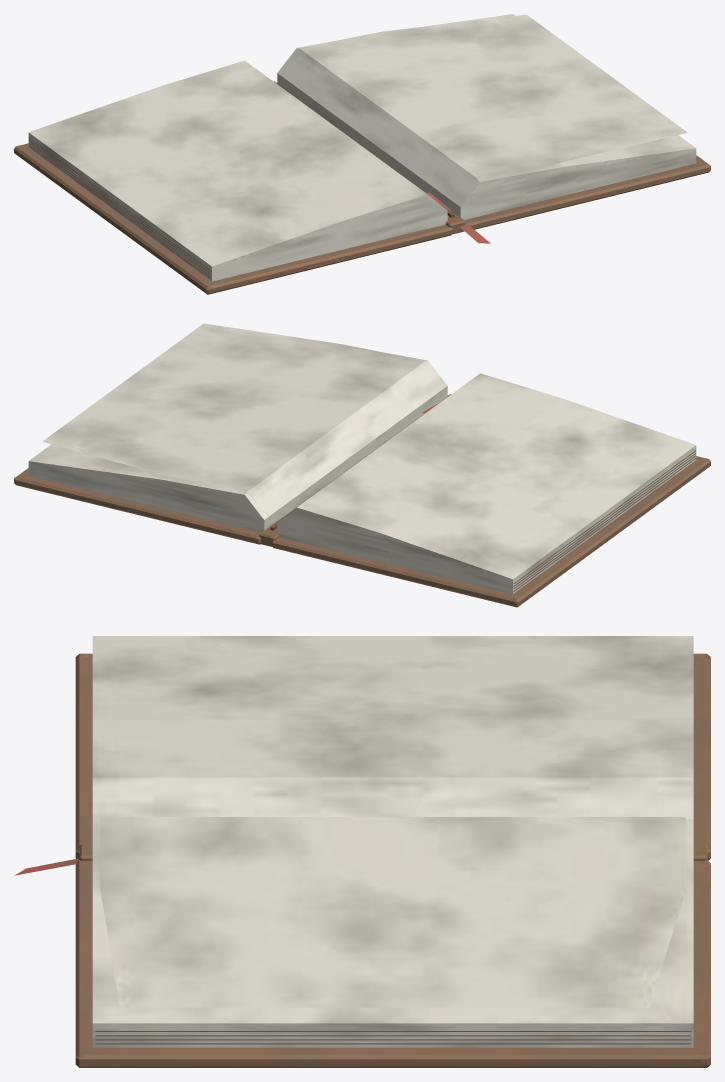
Rendered from D09_open_books_on_floor_v1.glb.
3 renders of one model, top to bottom at view 1: azimuth 30°, elevation 25°; view 2: azimuth 150°, elevation 25°; view 3: azimuth 270°, elevation 25°, orthographic. The views are drawn at different scales.
Parts seen in each view (by area): view 1: Worn cover; view 2: Worn cover; view 3: Worn cover.
Part boxes in pixels (x1,y1,x2,y2): Worn cover: [14, 14, 710, 294]; Worn cover: [14, 323, 710, 607]; Worn cover: [14, 636, 710, 1067].
Bounding box in the file's own units: 0.4 × 0.033 × 0.2918.
4 materials, 4 textured.
